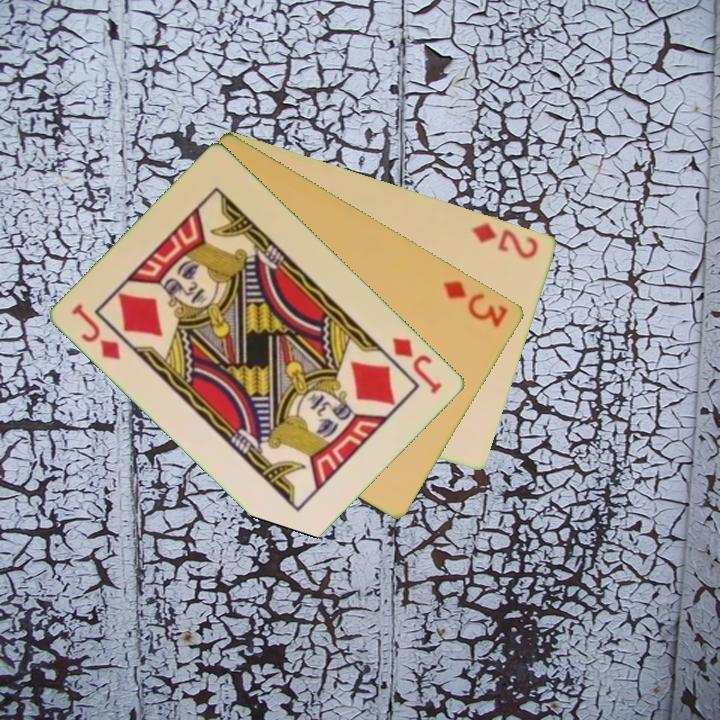2d: (468, 219, 542, 262)
3d: (440, 276, 512, 331)
Jd: (389, 333, 446, 397), (68, 300, 124, 363)
